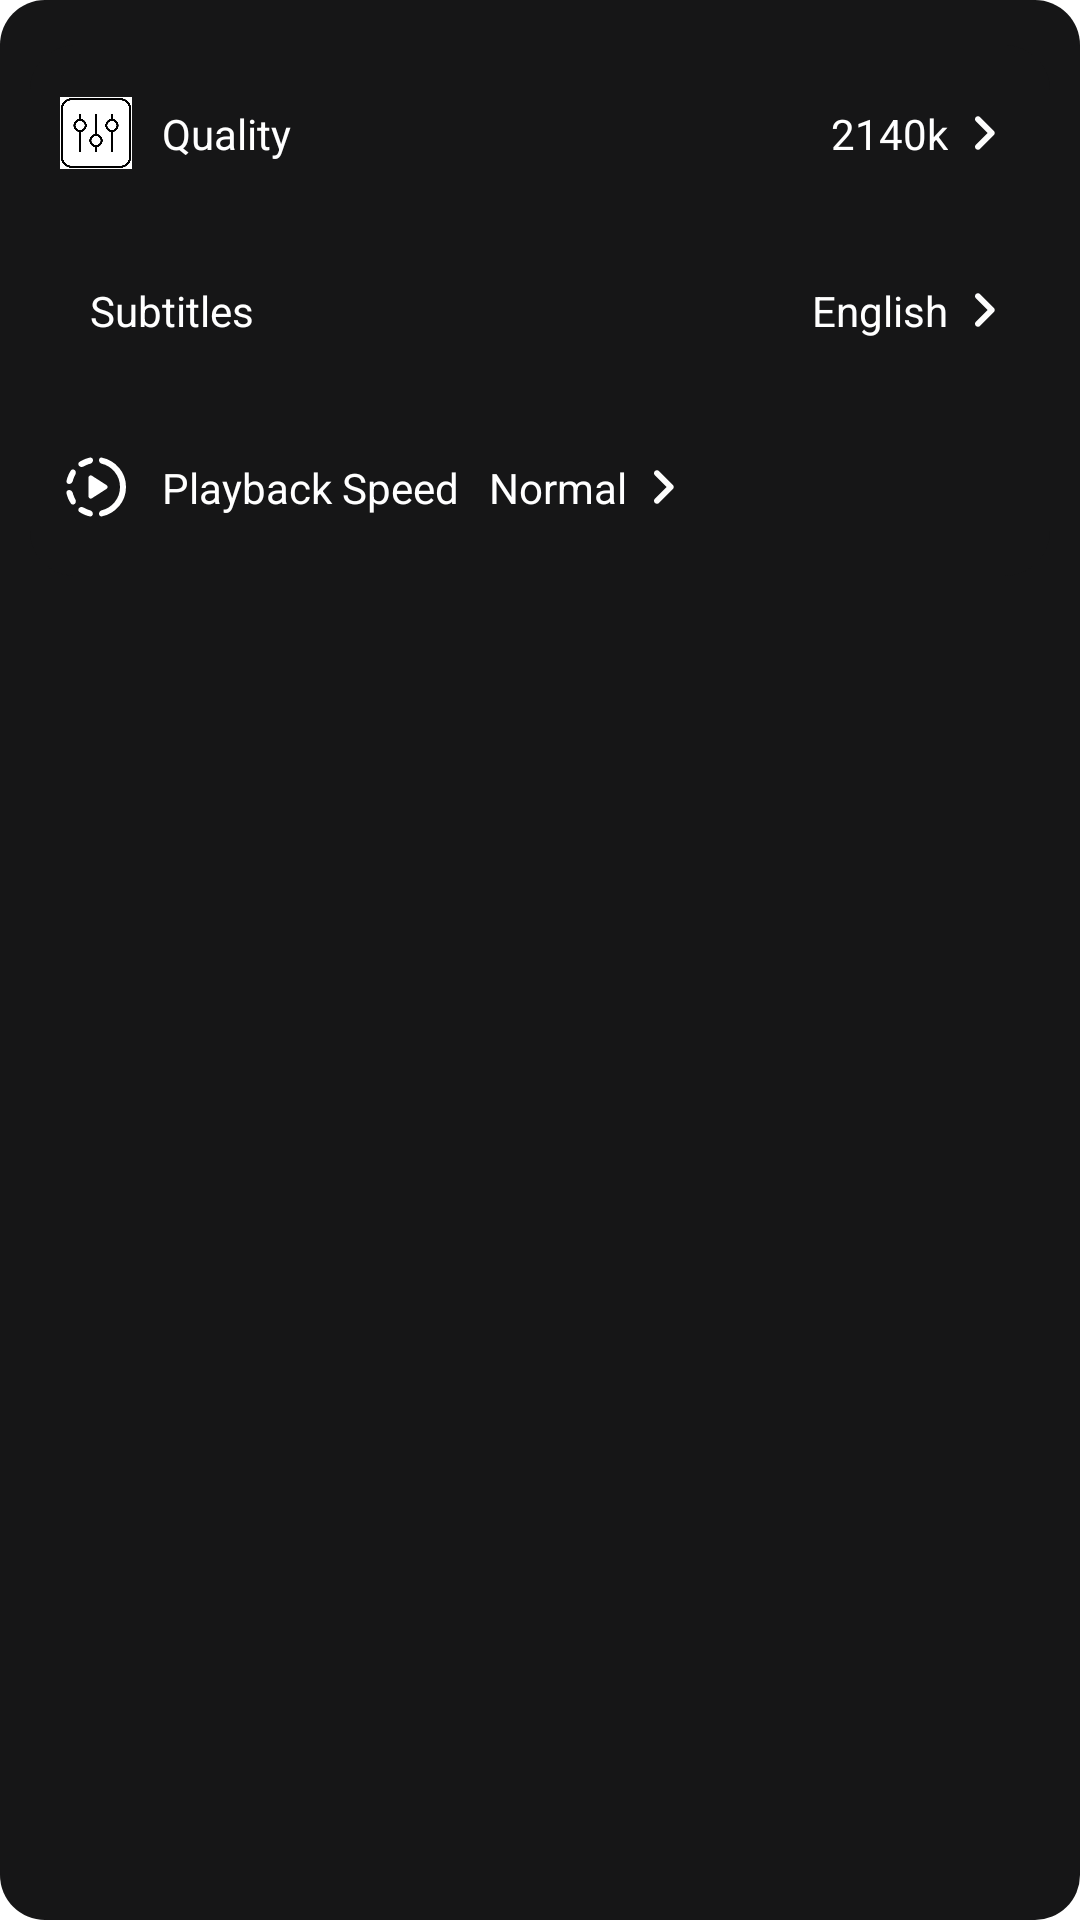

Screen size 1080 x 1920. Icon name, then its center in pixels as (x,y):
arrow right: (985,133), (985,310), (664,487)
equilizer: (96,133)
